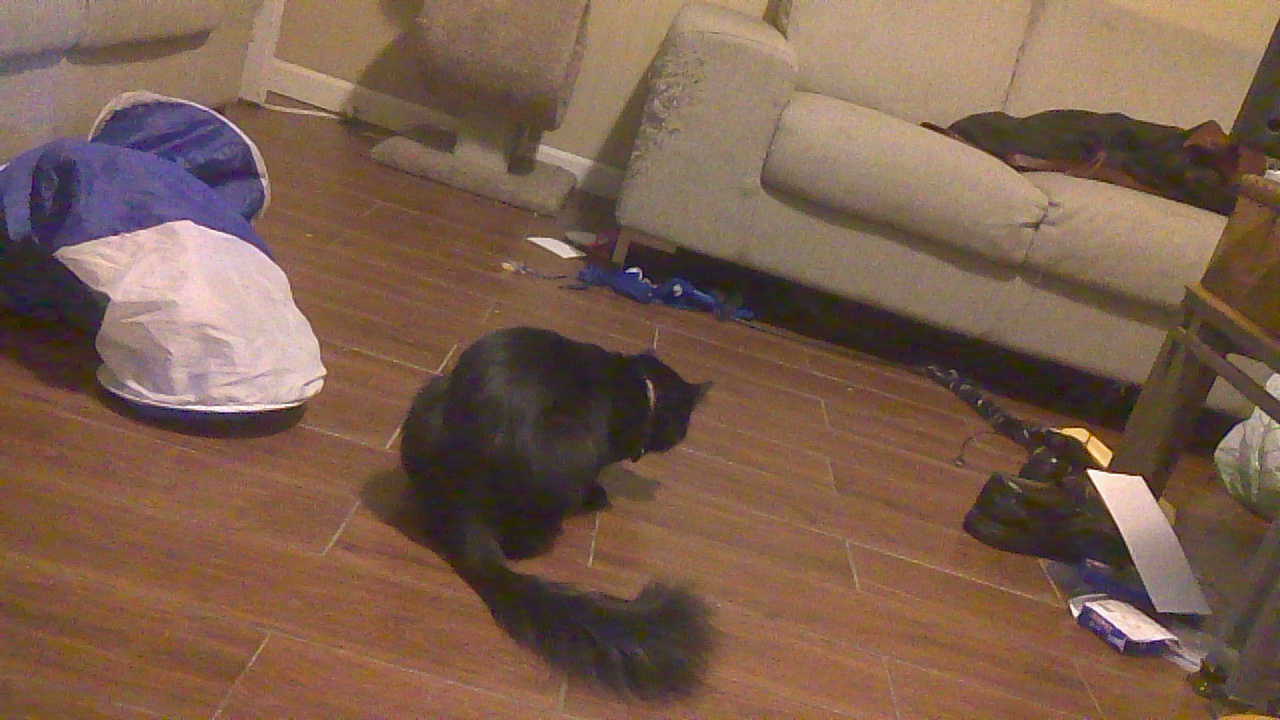cat: (395, 326, 724, 695)
